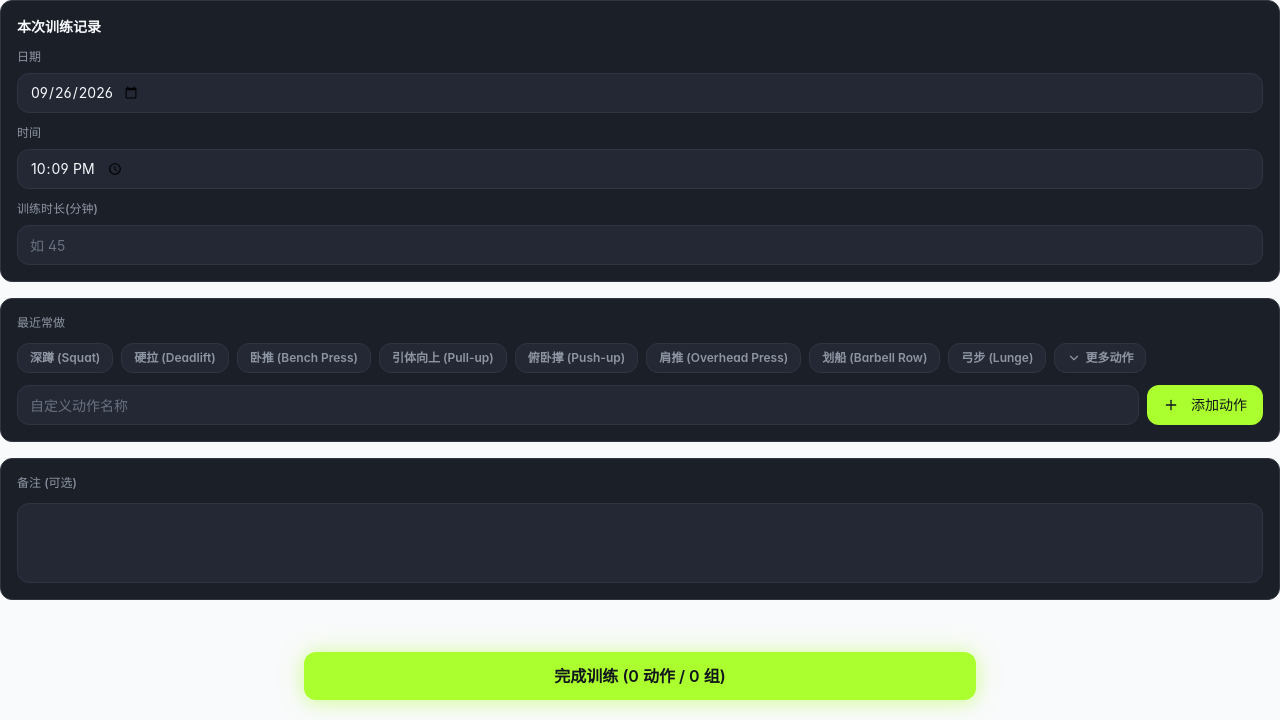
StrengthForm (力量训练统一表单) › 校验:无动作时保存被拦截并提示
Click the button "完成训练 (0 动作 / 0 组)": x=640, y=676 [304, 652, 976, 700]
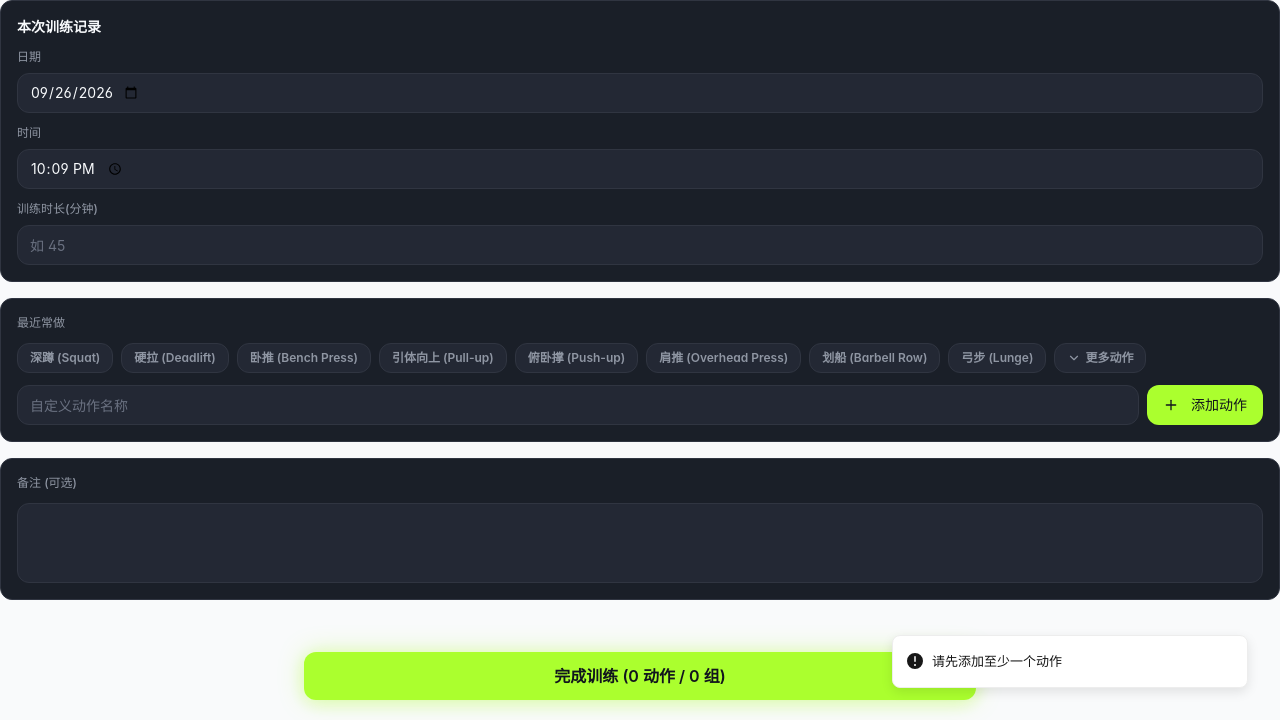
Result: the text "请先添加至少一个动作" is shown at [932, 652, 1062, 671]
